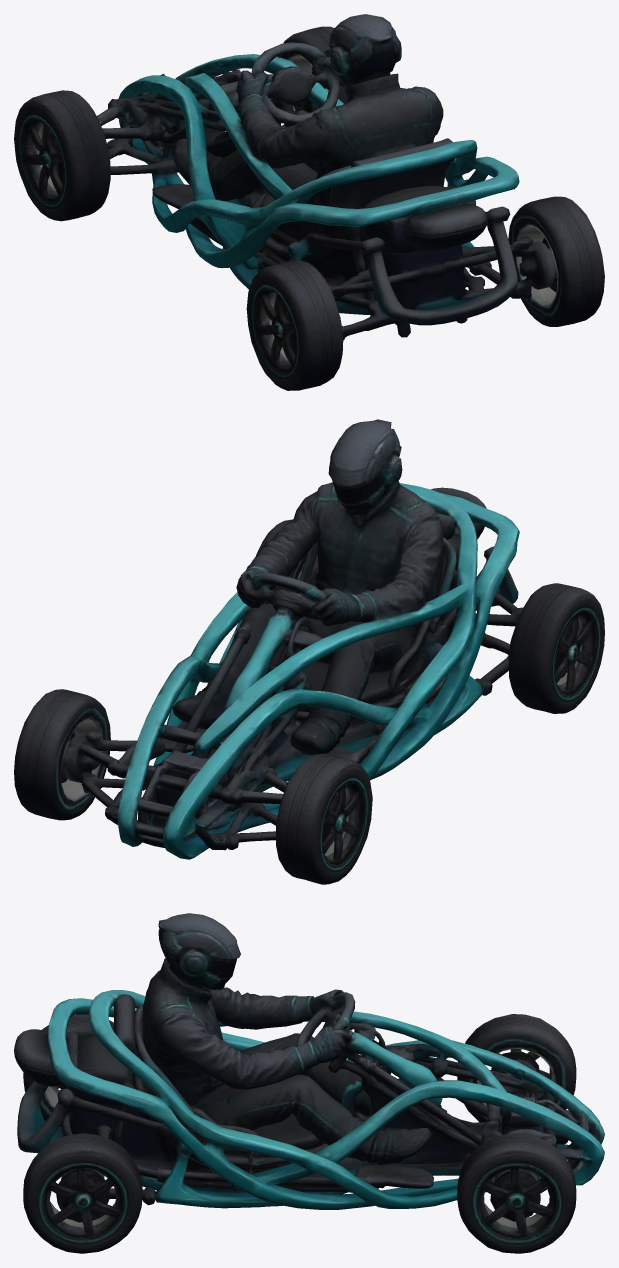
Rendered from loom-dark.glb.
The picture shows the model from 3 angles, top to bottom: view 1: azimuth 30°, elevation 25°; view 2: azimuth 150°, elevation 25°; view 3: azimuth 270°, elevation 25°; orthographic projection. The views are drawn at different scales.
Parts seen in each view (by area): view 1: chassis, wheel-fl, wheel-rl, wheel-rr, wheel-fr; view 2: chassis, wheel-fl, wheel-rl, wheel-fr, wheel-rr; view 3: chassis, wheel-rr, wheel-fr, wheel-fl, wheel-rl.
Boxes of the visible parts, x1,y1,x2,y2 form: chassis: (97,14,538,340); wheel-fl: (14,90,110,221); wheel-rl: (246,260,343,390); wheel-rr: (508,196,604,326); wheel-fr: (277,26,347,112); chassis: (79,419,523,859); wheel-fl: (276,753,372,884); wheel-rl: (508,583,604,713); wheel-fr: (14,689,110,820); wheel-rr: (255,519,318,603); chassis: (14,913,604,1209); wheel-rr: (23,1133,142,1253); wheel-fr: (457,1133,576,1253); wheel-fl: (457,1014,576,1122); wheel-rl: (23,1014,139,1126).
Size of the model in its own units: 2.48 by 2.28 by 4.5.
Materials: 1 (1 with a texture image).
